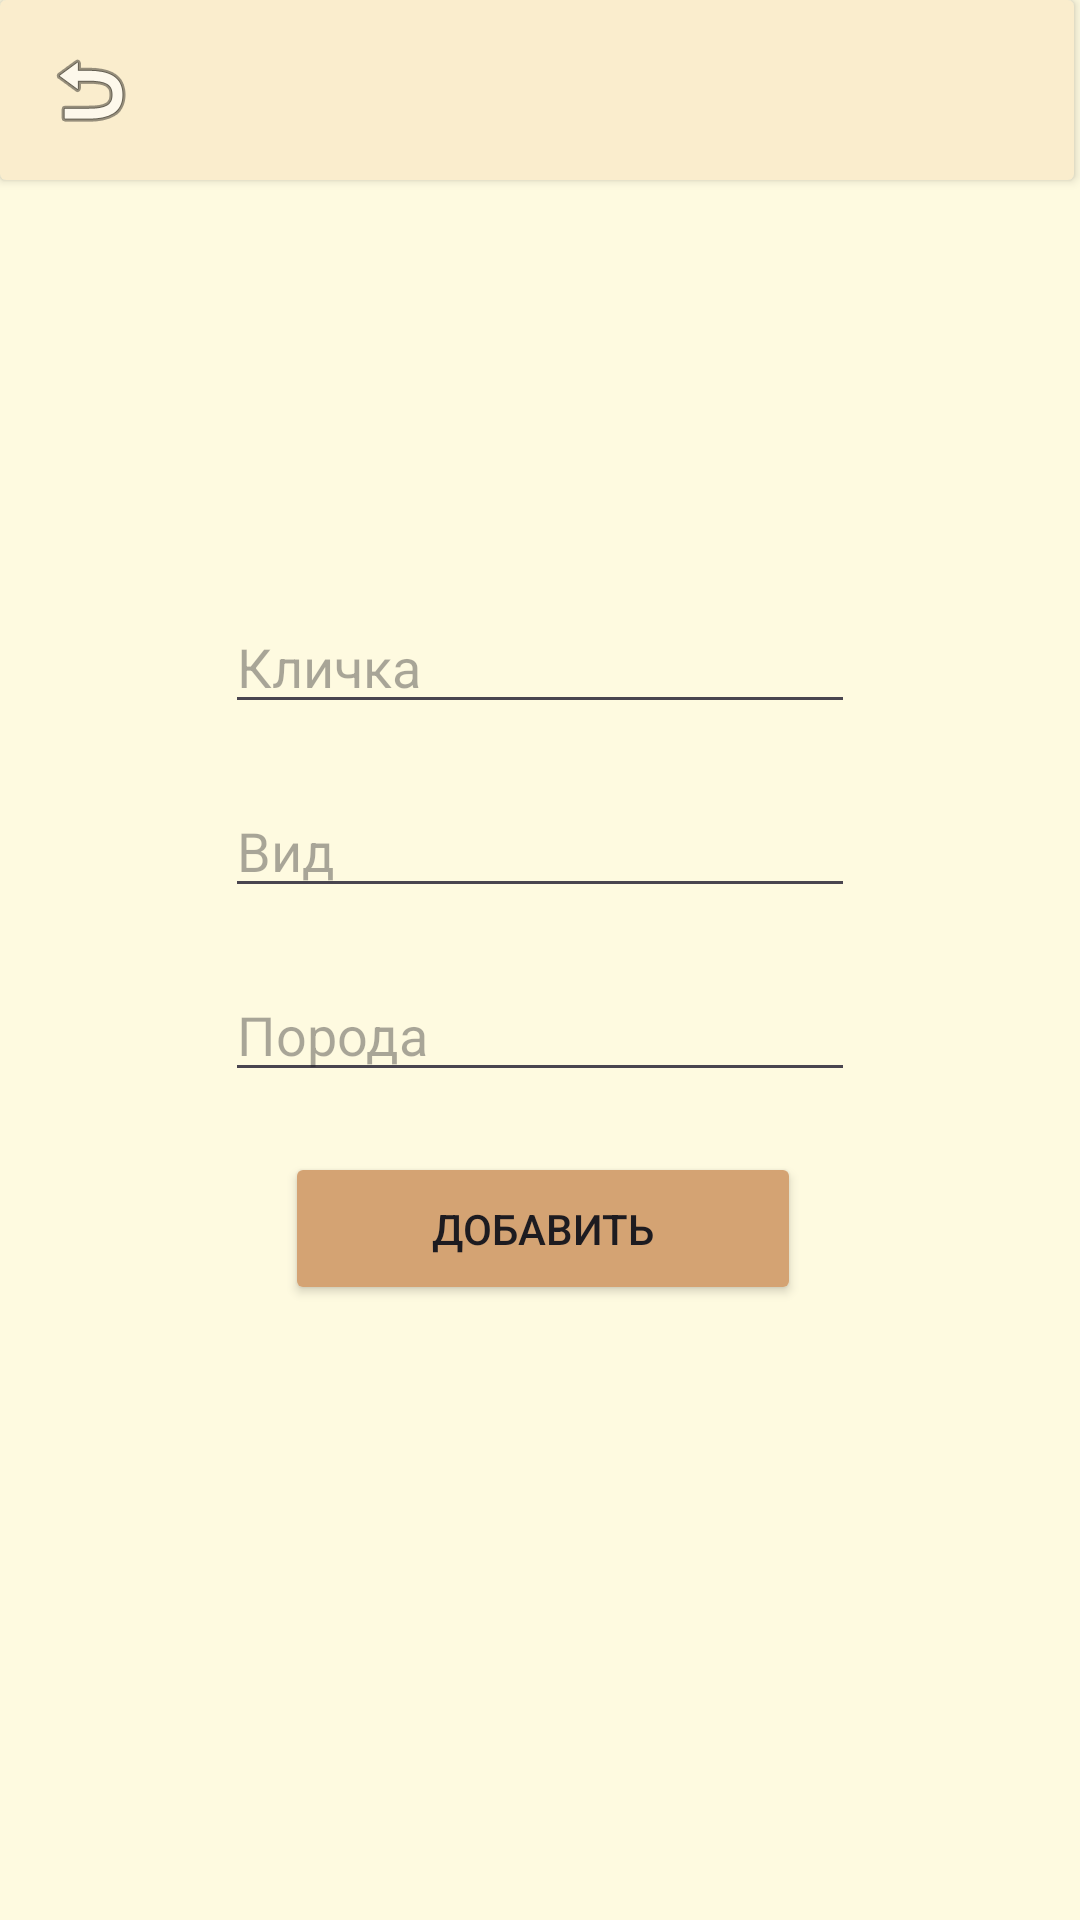

Screen size 1080 × 1920. Icon name, then its box in pixels as (x1, y1, x2, y2):
revert: (57, 59, 126, 122)
